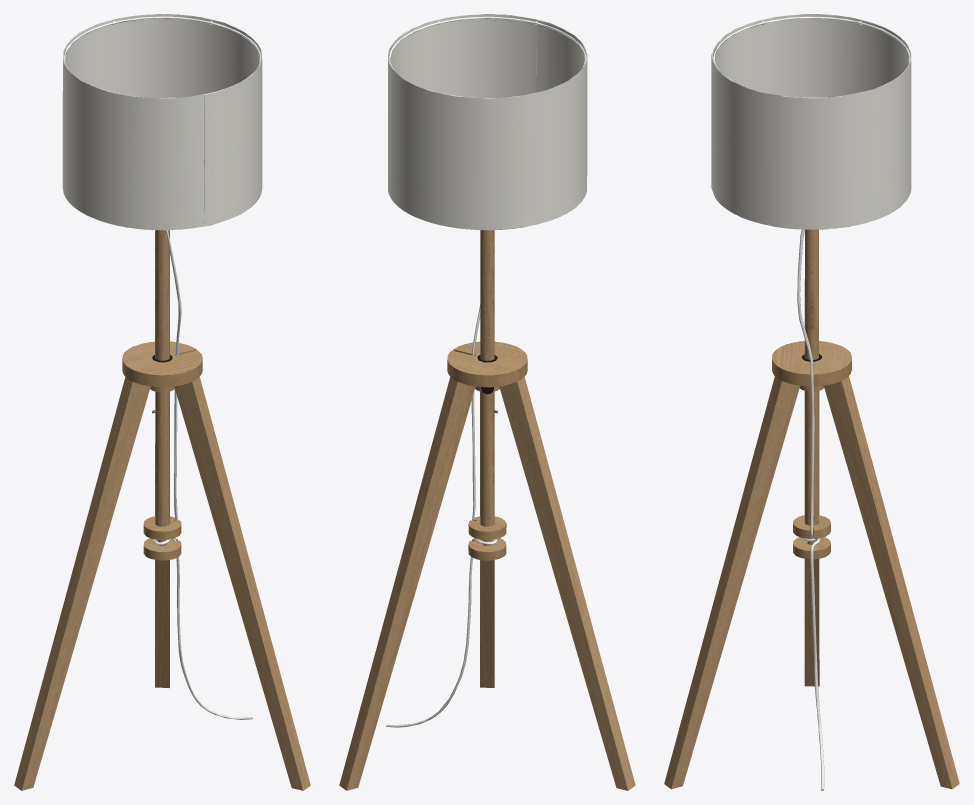
The model's file is LAUTERS floor lamp.glb.
The picture shows the model from 3 angles, left to right: view 1: azimuth 30°, elevation 25°; view 2: azimuth 150°, elevation 25°; view 3: azimuth 270°, elevation 25°; orthographic projection.
Parts seen in each view (by area): view 1: 30405042_Reduction_Textures_Parameterizer_591px; view 2: 30405042_Reduction_Textures_Parameterizer_591px; view 3: 30405042_Reduction_Textures_Parameterizer_591px.
Boxes of the visible parts, x1=… form: 30405042_Reduction_Textures_Parameterizer_591px: x1=14, y1=14, x2=310, y2=790; 30405042_Reduction_Textures_Parameterizer_591px: x1=339, y1=14, x2=635, y2=790; 30405042_Reduction_Textures_Parameterizer_591px: x1=664, y1=14, x2=959, y2=790.
Size of the model in its own units: 0.5167 by 1.44 by 0.5524.
Materials: 1 (1 with a texture image).
